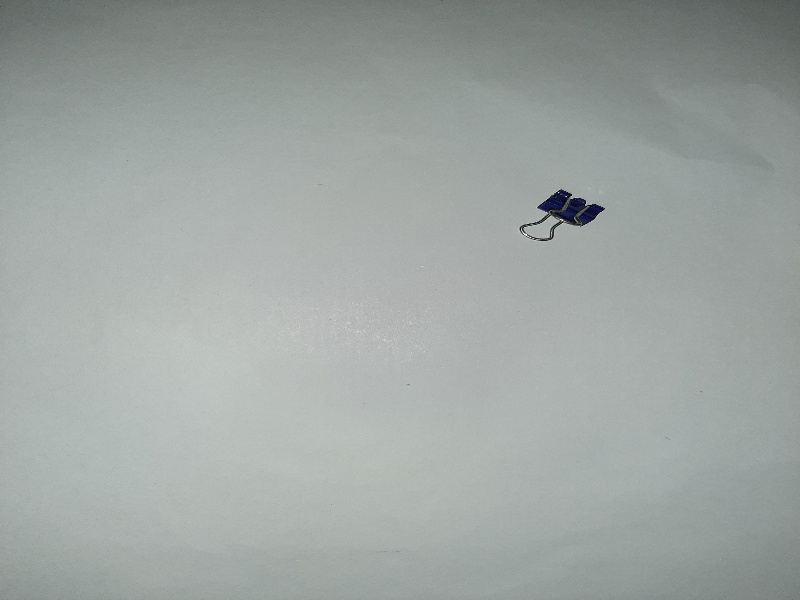Small Paperclip: (515, 178, 614, 248)
